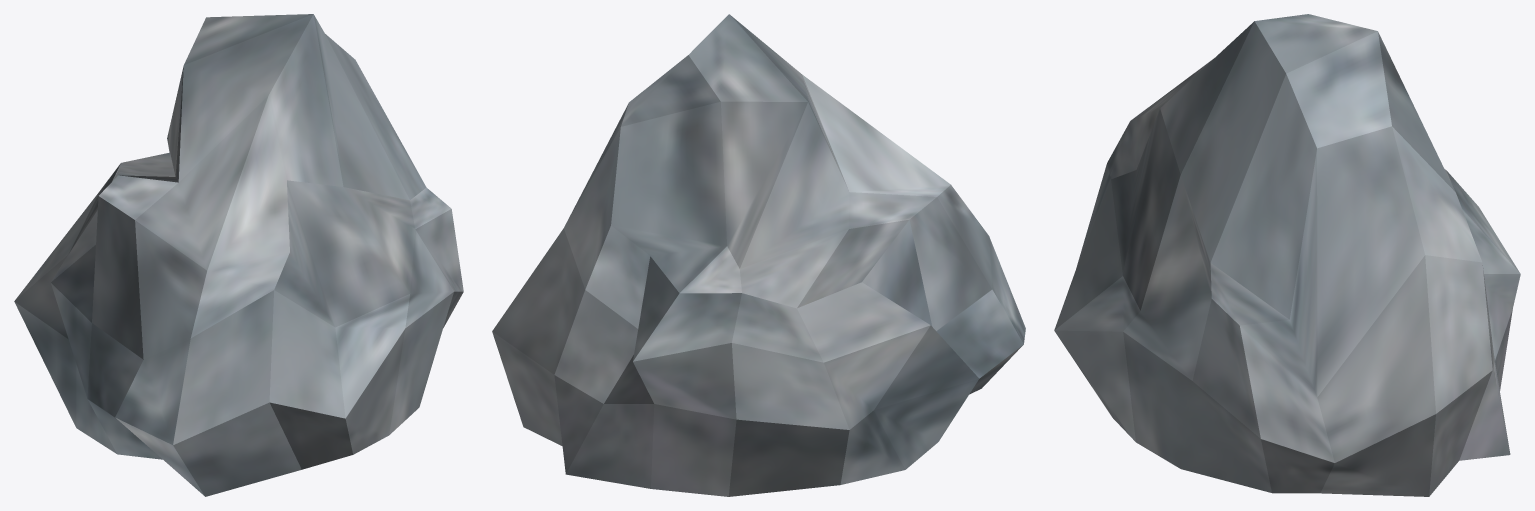
File: stone_2.fbx
The picture shows the model from 3 angles, left to right: view 1: azimuth 30°, elevation 25°; view 2: azimuth 150°, elevation 25°; view 3: azimuth 270°, elevation 25°; orthographic projection. The views are drawn at different scales.
Visible parts, largest first — view 1: Cube.002; view 2: Cube.002; view 3: Cube.002.
Boxes of the visible parts, left/top/right/bottom form: Cube.002: left=14, top=14, right=463, bottom=496; Cube.002: left=492, top=14, right=1025, bottom=496; Cube.002: left=1054, top=14, right=1520, bottom=496.
Bounding box in the file's own units: 90.11 × 82.9 × 85.31.
